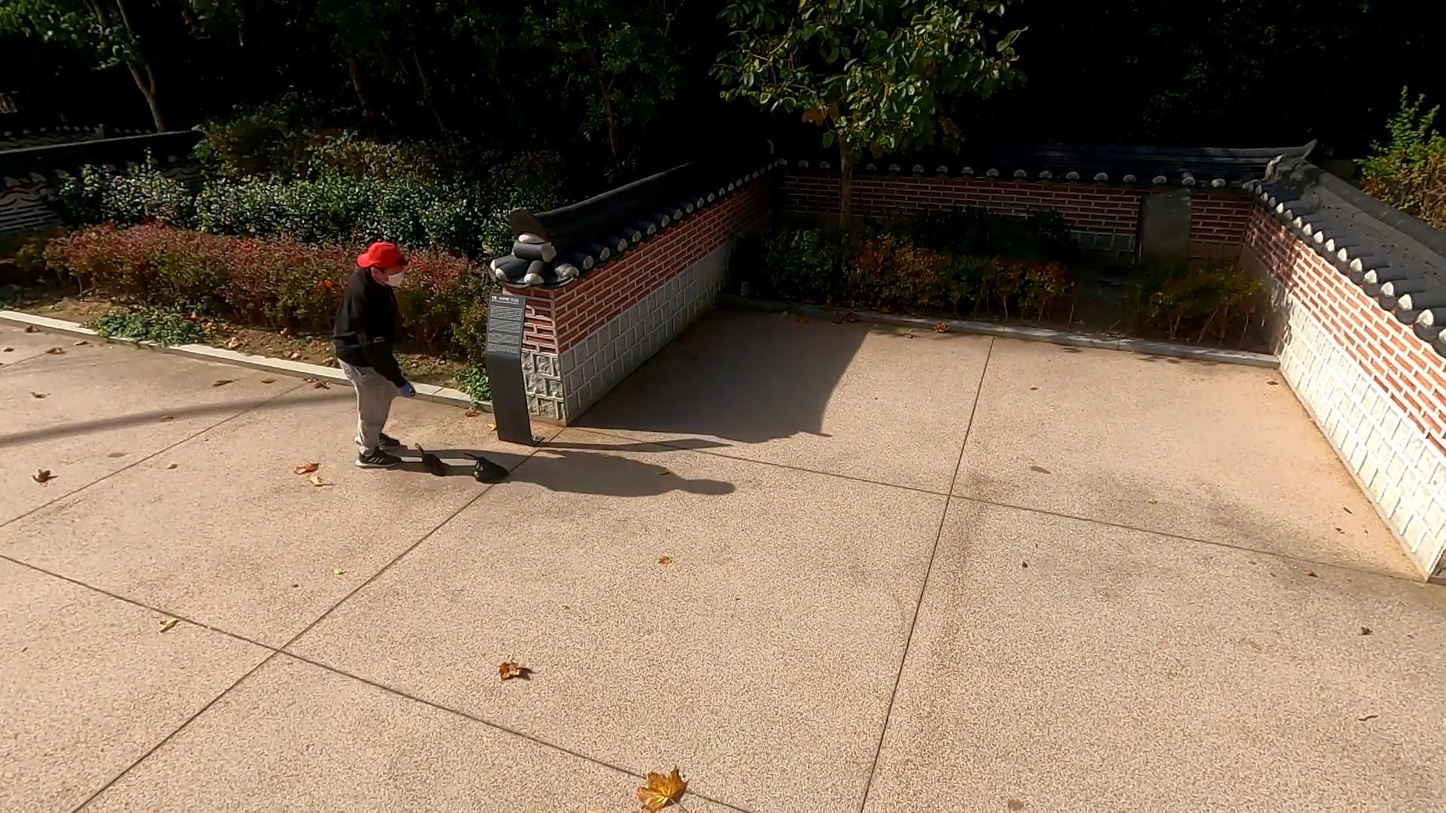person: (334, 241, 419, 470)
trash: (463, 453, 510, 484), (417, 446, 447, 478)
